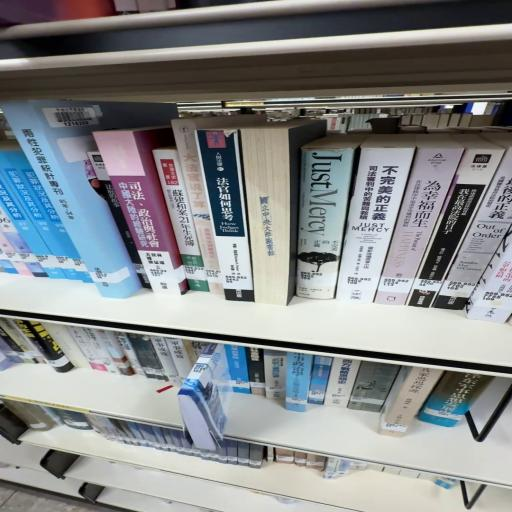backward: (240, 121, 326, 307)
book: (93, 131, 191, 299), (169, 131, 244, 301)
